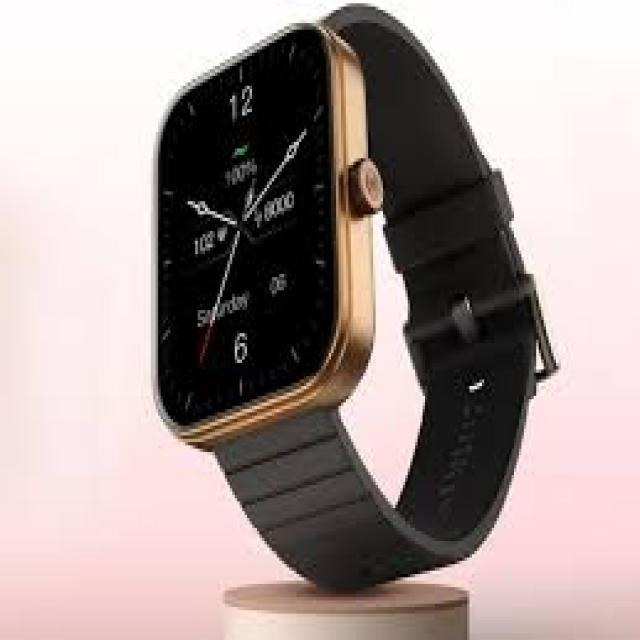objects: (158, 4, 556, 587), (0, 0, 343, 637), (215, 3, 534, 584), (373, 0, 638, 637), (158, 26, 351, 442), (158, 30, 334, 426), (341, 214, 423, 501)
